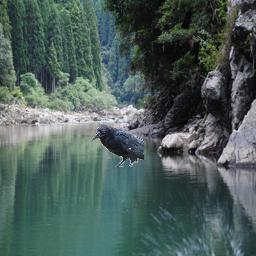Crow: (91, 123, 144, 167)
